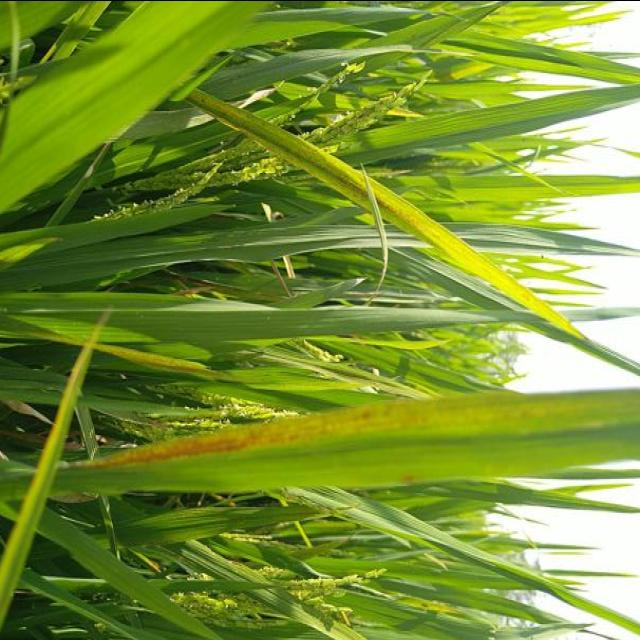Leaf Streak: (57, 393, 524, 474), (372, 186, 579, 334), (182, 87, 369, 209)
